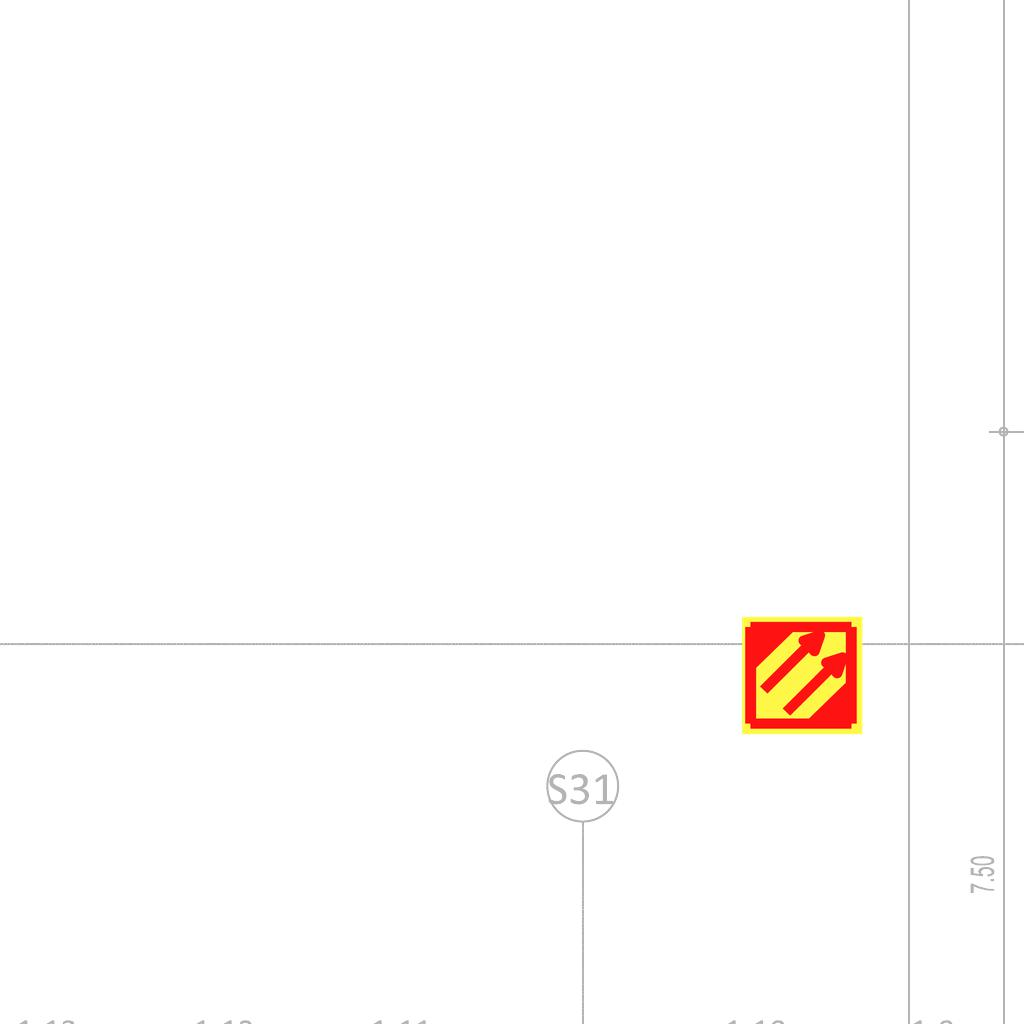ASR_Ansaugrauchmelder: (740, 613, 865, 738)
